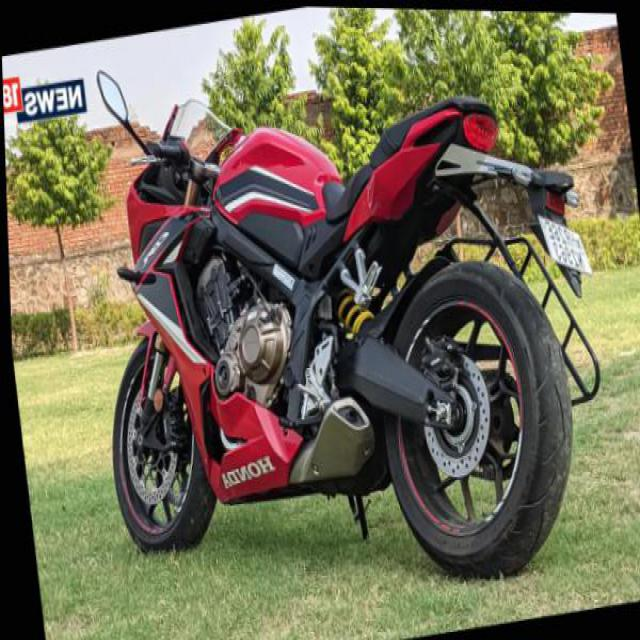CBR650R: (70, 29, 600, 638)
